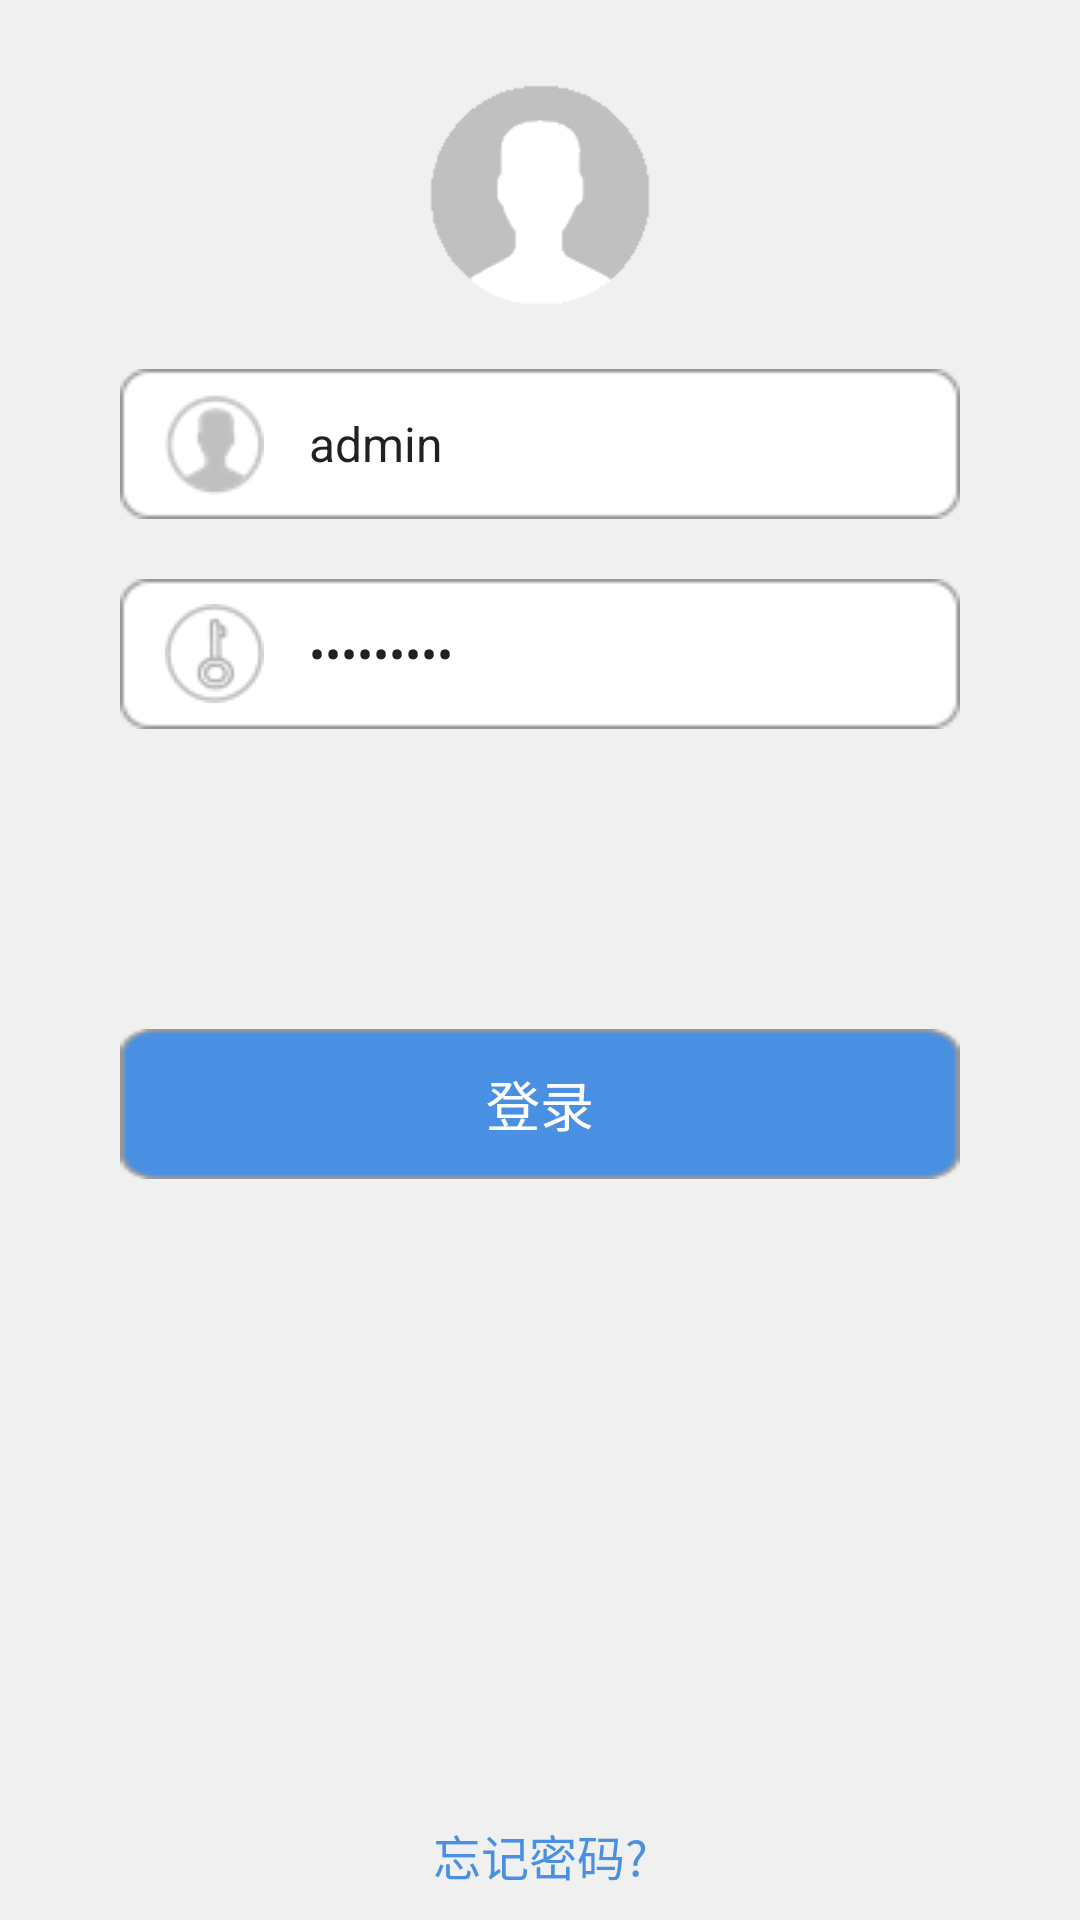

Screen size 1080 × 1920. Icon name, then its center in pixels as (x,y):
userhead: (540,182)
